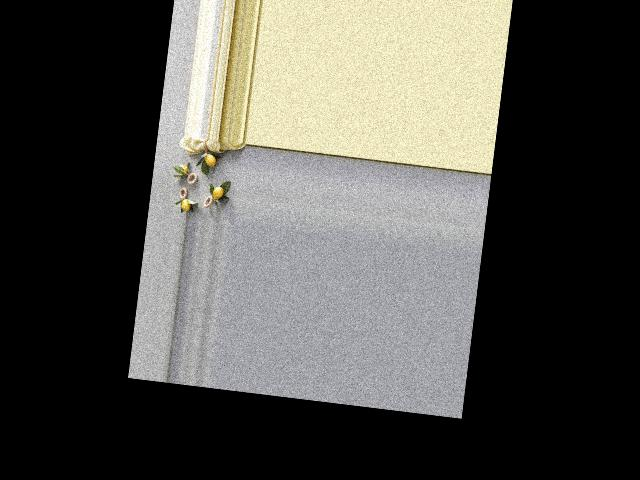lemon: (180, 196, 194, 215)
